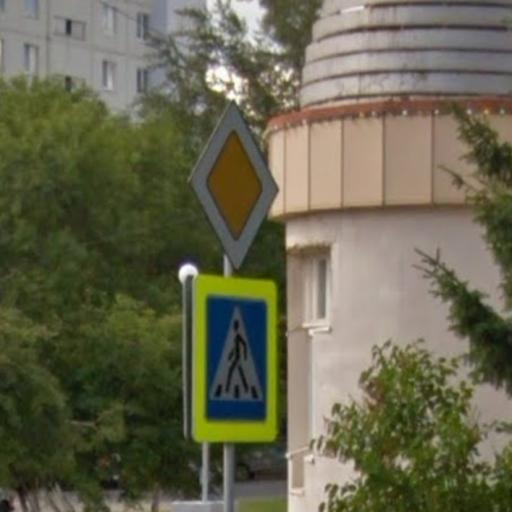traffic_sign: (185, 96, 283, 277), (183, 273, 283, 448)
